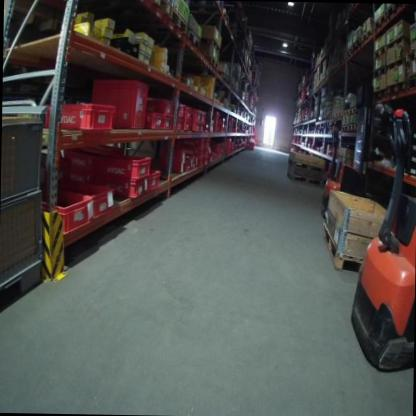pallet: (319, 224, 364, 274), (169, 5, 187, 39), (285, 172, 324, 187), (287, 158, 325, 173), (387, 33, 410, 51), (387, 56, 408, 75), (200, 36, 221, 54), (186, 26, 201, 51), (152, 0, 171, 18), (387, 81, 406, 96), (372, 13, 386, 32), (372, 63, 386, 81), (372, 44, 387, 60), (387, 4, 401, 20), (204, 56, 218, 71), (372, 88, 386, 102), (361, 28, 372, 44), (408, 48, 416, 62), (406, 78, 416, 88), (348, 106, 356, 115), (348, 124, 356, 132), (341, 125, 348, 132), (343, 109, 349, 117), (335, 110, 341, 117)
pallet_truck: (346, 108, 416, 376), (320, 119, 366, 224)
small_load_carrier: (25, 183, 95, 241), (87, 78, 147, 129), (40, 100, 115, 136), (62, 180, 118, 222), (62, 144, 121, 180), (95, 153, 152, 179), (115, 172, 145, 210), (149, 91, 176, 118), (139, 108, 163, 133), (163, 161, 188, 183), (168, 145, 193, 166), (161, 117, 177, 132), (189, 105, 200, 123), (183, 118, 196, 132), (146, 173, 157, 189), (173, 120, 187, 132), (193, 145, 207, 157), (175, 104, 186, 119), (195, 156, 209, 167), (189, 139, 208, 147), (191, 122, 202, 134), (185, 105, 194, 119), (198, 108, 207, 118)
stillage: (0, 109, 53, 314)
